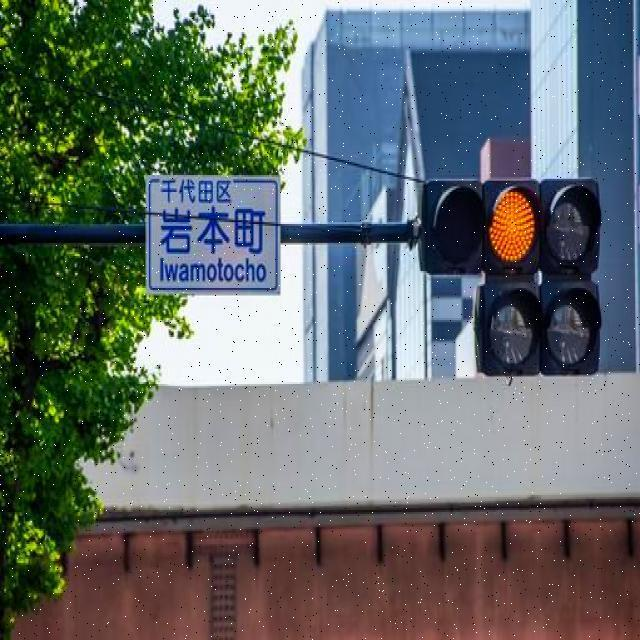yellow_light: (479, 155, 556, 283), (477, 172, 502, 240), (514, 252, 544, 263)
